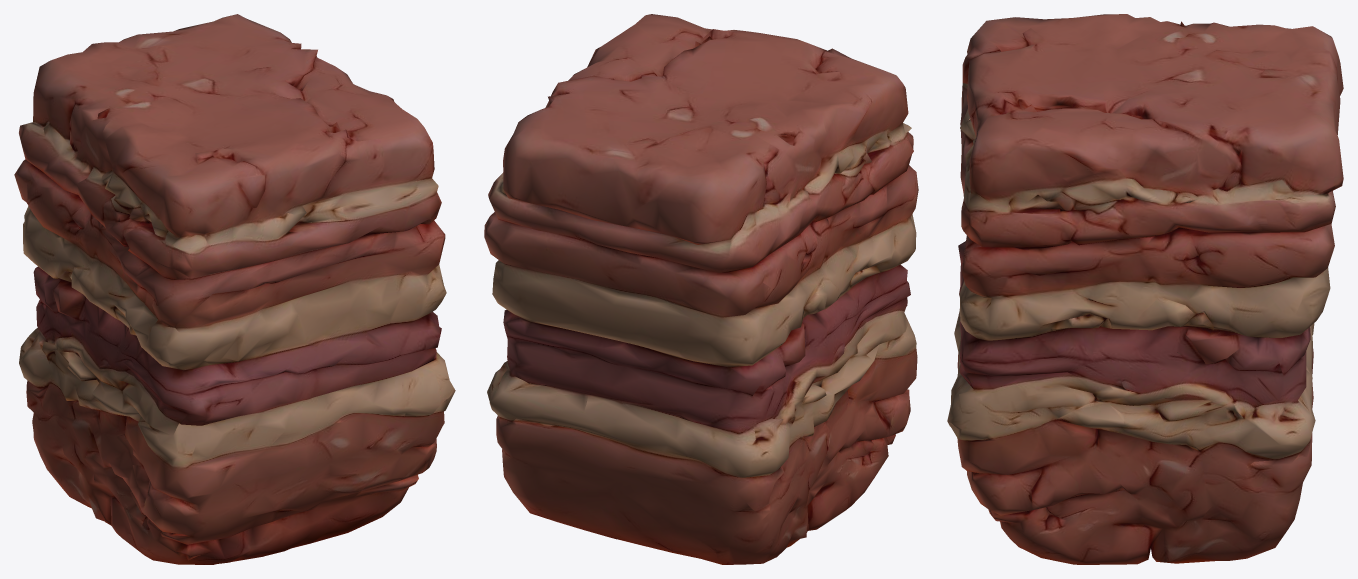
File: red_rock.glb
3 views of the same model, side by side, from view 1: azimuth 30°, elevation 25°; view 2: azimuth 150°, elevation 25°; view 3: azimuth 270°, elevation 25° (orthographic). The views are drawn at different scales.
Parts seen in each view (by area): view 1: tripo_node_4e20616e-3fd7-483c-8a67-f2f7c9c9358b; view 2: tripo_node_4e20616e-3fd7-483c-8a67-f2f7c9c9358b; view 3: tripo_node_4e20616e-3fd7-483c-8a67-f2f7c9c9358b.
Boxes of the visible parts, x1=… form: tripo_node_4e20616e-3fd7-483c-8a67-f2f7c9c9358b: x1=14, y1=14, x2=455, y2=564; tripo_node_4e20616e-3fd7-483c-8a67-f2f7c9c9358b: x1=484, y1=14, x2=918, y2=564; tripo_node_4e20616e-3fd7-483c-8a67-f2f7c9c9358b: x1=947, y1=14, x2=1343, y2=564.
Size of the model in its own units: 0.727 by 1 by 0.8184.
Materials: 1 (1 with a texture image).
